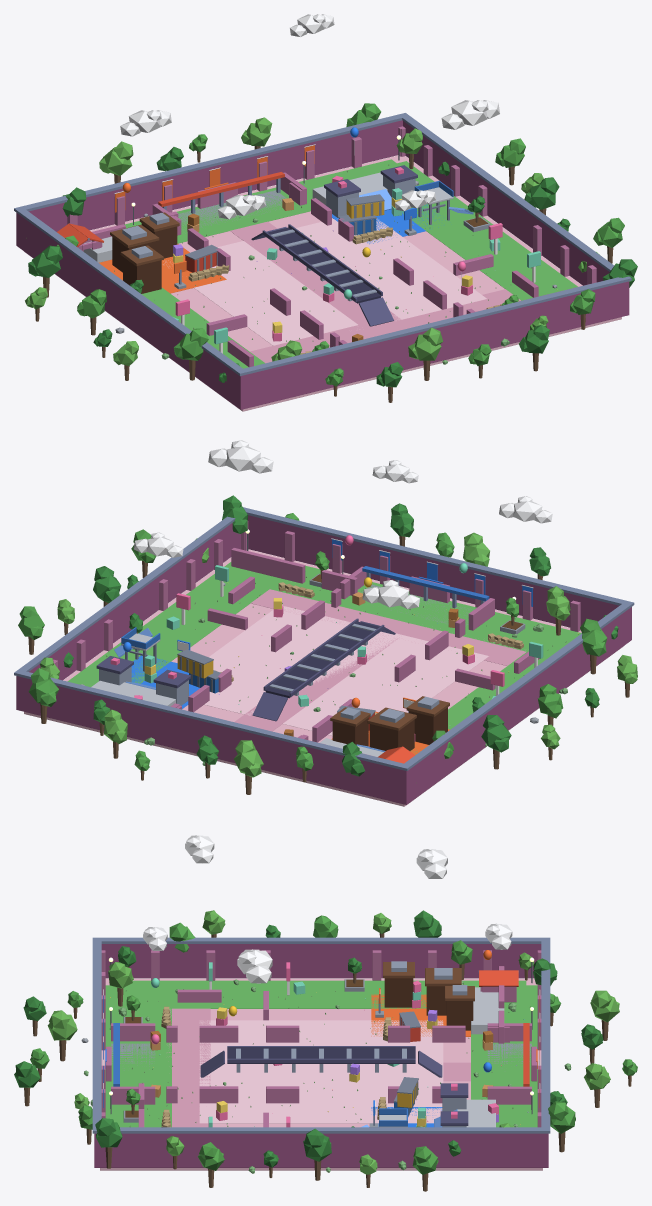
File: candy_factory.glb
3 views of the same model, one above another, from view 1: azimuth 30°, elevation 25°; view 2: azimuth 150°, elevation 25°; view 3: azimuth 270°, elevation 25° (orthographic).
Parts seen in each view (by area): view 1: candy_factory_Map_a35c8f, candy_factory_box045, candy_factory_Map_6fc46a_flat, candy_factory_Map_c07aa8, candy_factory_Map_8493b5_flat, candy_factory_box000, candy_factory_Map_Leaf_#3f8c46, candy_factory_Map_e3a8c4_flat, candy_factory_Map_Leaf_#57a851, candy_factory_Map_Leaf_#6cb75a, candy_factory_Map_Cloud, candy_factory_Map_5a5a82 (+15 smaller); view 2: candy_factory_Map_a35c8f, candy_factory_box045, candy_factory_Map_6fc46a_flat, candy_factory_Map_c07aa8, candy_factory_Map_8493b5_flat, candy_factory_Map_Leaf_#3f8c46, candy_factory_Map_e3a8c4_flat, candy_factory_box000, candy_factory_Map_Leaf_#57a851, candy_factory_Map_Cloud, candy_factory_Map_Leaf_#6cb75a, candy_factory_Map_5a5a82 (+13 smaller); view 3: candy_factory_Map_a35c8f, candy_factory_Map_6fc46a_flat, candy_factory_box045, candy_factory_Map_c07aa8, candy_factory_Map_8493b5_flat, candy_factory_box000, candy_factory_Map_Leaf_#3f8c46, candy_factory_Map_Leaf_#57a851, candy_factory_Map_e3a8c4_flat, candy_factory_Map_Leaf_#6cb75a, candy_factory_Map_Cloud, candy_factory_Map_5a5a82 (+15 smaller).
Part boxes in pixels (box(x1,y1,x2,y2)): candy_factory_Map_a35c8f: box(16, 120, 629, 409); candy_factory_box045: box(163, 218, 486, 345); candy_factory_Map_6fc46a_flat: box(124, 159, 577, 368); candy_factory_Map_c07aa8: box(67, 126, 596, 367); candy_factory_Map_8493b5_flat: box(14, 113, 631, 376); candy_factory_box000: box(24, 155, 621, 411); candy_factory_Map_Leaf_#3f8c46: box(28, 147, 637, 387); candy_factory_Map_e3a8c4_flat: box(230, 221, 520, 363); candy_factory_Map_Leaf_#57a851: box(56, 103, 624, 386); candy_factory_Map_Leaf_#6cb75a: box(25, 117, 599, 365); candy_factory_Map_Cloud: box(120, 14, 499, 219); candy_factory_Map_5a5a82: box(251, 165, 417, 326); candy_factory_Map_a35c8f: box(16, 515, 631, 804); candy_factory_box045: box(204, 605, 488, 735); candy_factory_Map_6fc46a_flat: box(67, 562, 581, 754); candy_factory_Map_c07aa8: box(53, 521, 580, 755); candy_factory_Map_8493b5_flat: box(14, 507, 634, 770); candy_factory_Map_Leaf_#3f8c46: box(63, 495, 618, 776); candy_factory_Map_e3a8c4_flat: box(234, 589, 526, 731); candy_factory_box000: box(24, 549, 623, 806); candy_factory_Map_Leaf_#57a851: box(18, 513, 607, 771); candy_factory_Map_Cloud: box(133, 440, 552, 609); candy_factory_Map_Leaf_#6cb75a: box(40, 532, 637, 777); candy_factory_Map_5a5a82: box(96, 618, 395, 721); candy_factory_Map_a35c8f: box(94, 944, 548, 1167); candy_factory_Map_6fc46a_flat: box(105, 980, 537, 1127); candy_factory_box045: box(199, 1020, 443, 1123); candy_factory_Map_c07aa8: box(101, 950, 541, 1127); candy_factory_Map_8493b5_flat: box(92, 937, 550, 1133); candy_factory_box000: box(100, 978, 542, 1170); candy_factory_Map_Leaf_#3f8c46: box(14, 910, 603, 1167); candy_factory_Map_Leaf_#57a851: box(30, 915, 637, 1174); candy_factory_Map_e3a8c4_flat: box(167, 1008, 470, 1127); candy_factory_Map_Leaf_#6cb75a: box(47, 910, 619, 1174); candy_factory_Map_Cloud: box(143, 835, 512, 983); candy_factory_Map_5a5a82: box(200, 1046, 468, 1125).
Bounding box in the file's own units: 109 × 38.1 × 113.
